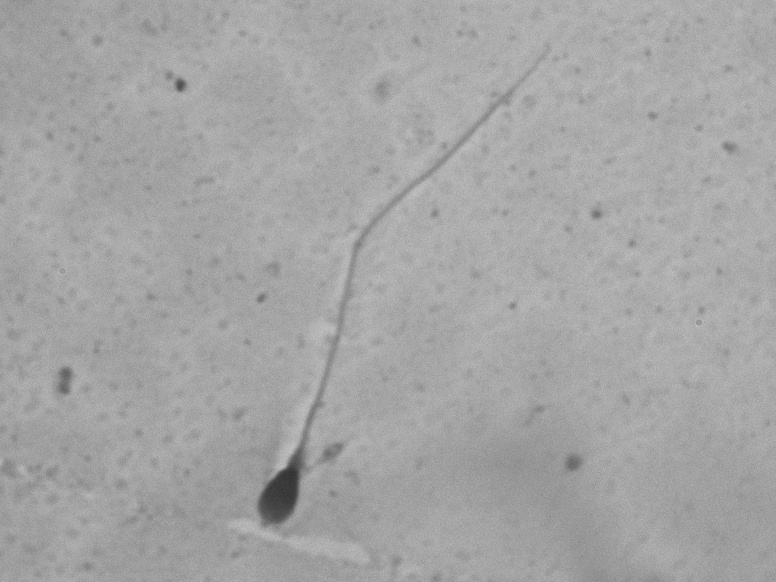Abnormal: (226, 60, 562, 550)
